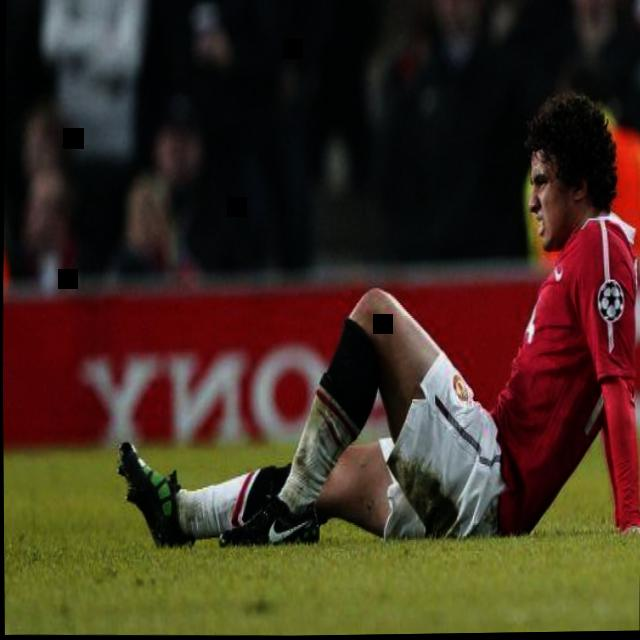Fall-Detected: (106, 75, 640, 566)
